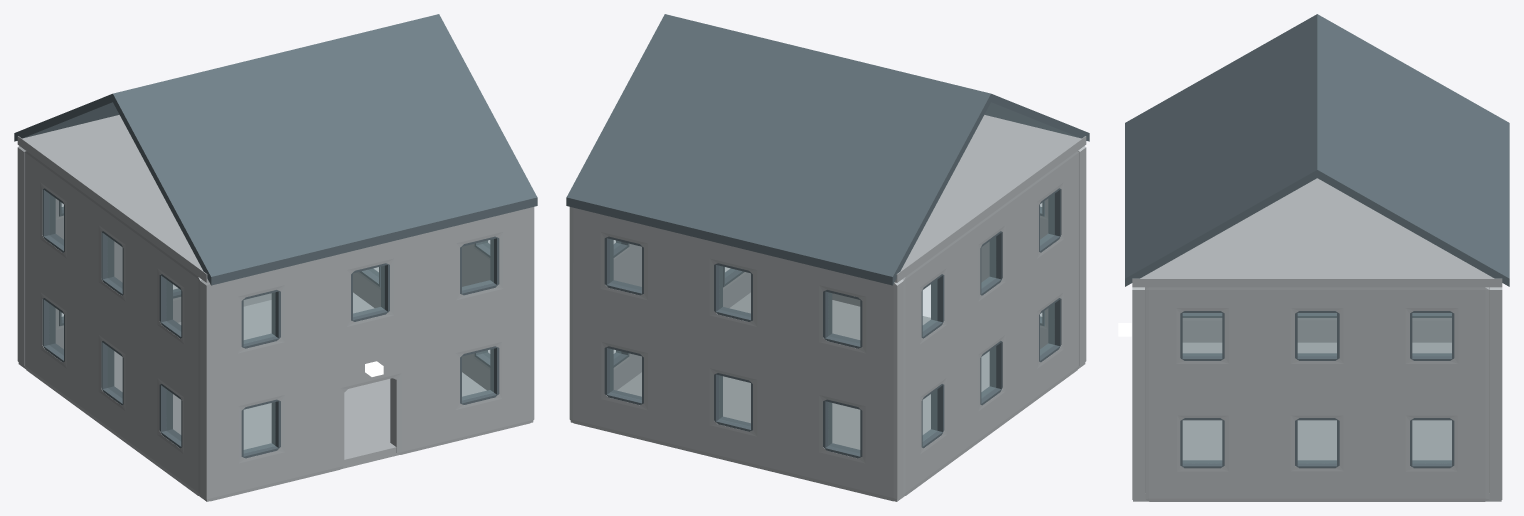
Rendered from house_2_lod0.glb.
3 renders of one model, left to right at view 1: azimuth 30°, elevation 25°; view 2: azimuth 150°, elevation 25°; view 3: azimuth 270°, elevation 25°, orthographic. The views are drawn at different scales.
Parts seen in each view (by area): view 1: Roof shell baked, Wall_0 baked, Wall_3 baked, Ceiling baked, Floor baked, Wall_1 baked, Wall_2 baked, Glazing baked, Glazing.001 baked, Glazing.004 baked, Glazing.003 baked, Glazing.002 baked (+12 smaller); view 2: Roof shell baked, Wall_1 baked, Wall_3 baked, Ceiling baked, Floor baked, Wall_0 baked, Wall_2 baked, Glazing.005 baked, Glazing.006 baked, Glazing.007 baked, Glazing.009 baked, Glazing.008 baked (+13 smaller); view 3: Roof shell baked, Wall_2 baked, Ceiling baked, Floor baked, Wall_3 baked, Wall_1 baked, Wall_0 baked, Glazing.013 baked, Glazing.016 baked, Glazing.011 baked, Glazing.012 baked, Glazing.014 baked (+1 smaller).
Boxes of the visible parts, left/top/right/bottom form: Roof shell baked: left=14, top=14, right=537, bottom=285; Wall_0 baked: left=200, top=207, right=534, bottom=501; Wall_3 baked: left=24, top=151, right=201, bottom=495; Ceiling baked: left=17, top=115, right=208, bottom=282; Floor baked: left=18, top=292, right=533, bottom=501; Wall_1 baked: left=17, top=146, right=271, bottom=365; Wall_2 baked: left=353, top=244, right=490, bottom=390; Glazing baked: left=244, top=402, right=275, bottom=453; Glazing.001 baked: left=462, top=349, right=493, bottom=399; Glazing.004 baked: left=462, top=239, right=493, bottom=290; Glazing.003 baked: left=353, top=266, right=384, bottom=316; Glazing.002 baked: left=244, top=293, right=275, bottom=343; Roof shell baked: left=566, top=14, right=1089, bottom=285; Wall_1 baked: left=569, top=207, right=903, bottom=501; Wall_3 baked: left=902, top=151, right=1079, bottom=495; Ceiling baked: left=895, top=115, right=1086, bottom=282; Floor baked: left=570, top=292, right=1085, bottom=501; Wall_0 baked: left=832, top=146, right=1086, bottom=365; Wall_2 baked: left=613, top=244, right=750, bottom=390; Glazing.005 baked: left=610, top=349, right=641, bottom=399; Glazing.006 baked: left=719, top=375, right=750, bottom=426; Glazing.007 baked: left=828, top=402, right=859, bottom=453; Glazing.009 baked: left=719, top=266, right=750, bottom=316; Glazing.008 baked: left=610, top=239, right=641, bottom=290; Roof shell baked: left=1125, top=14, right=1509, bottom=286; Wall_2 baked: left=1145, top=287, right=1489, bottom=501; Ceiling baked: left=1132, top=178, right=1502, bottom=287; Floor baked: left=1133, top=342, right=1501, bottom=501; Wall_3 baked: left=1182, top=318, right=1451, bottom=342; Wall_1 baked: left=1489, top=287, right=1502, bottom=499; Wall_0 baked: left=1132, top=287, right=1145, bottom=499; Glazing.013 baked: left=1412, top=420, right=1451, bottom=463; Glazing.016 baked: left=1412, top=313, right=1451, bottom=355; Glazing.011 baked: left=1183, top=420, right=1221, bottom=463; Glazing.012 baked: left=1298, top=420, right=1336, bottom=463; Glazing.014 baked: left=1183, top=313, right=1221, bottom=355.
Bounding box in the file's own units: 10 × 9.9 × 10.58.
